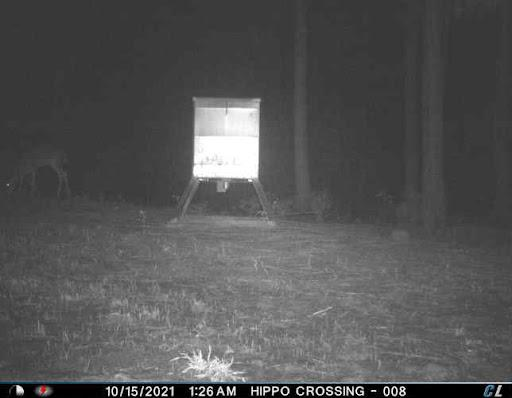Deer: (5, 141, 79, 208)
